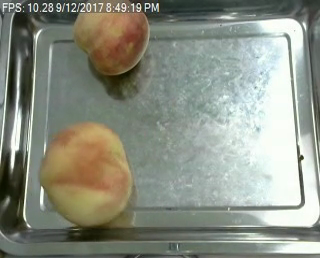Peach: (40, 120, 132, 227), (72, 0, 150, 75)
